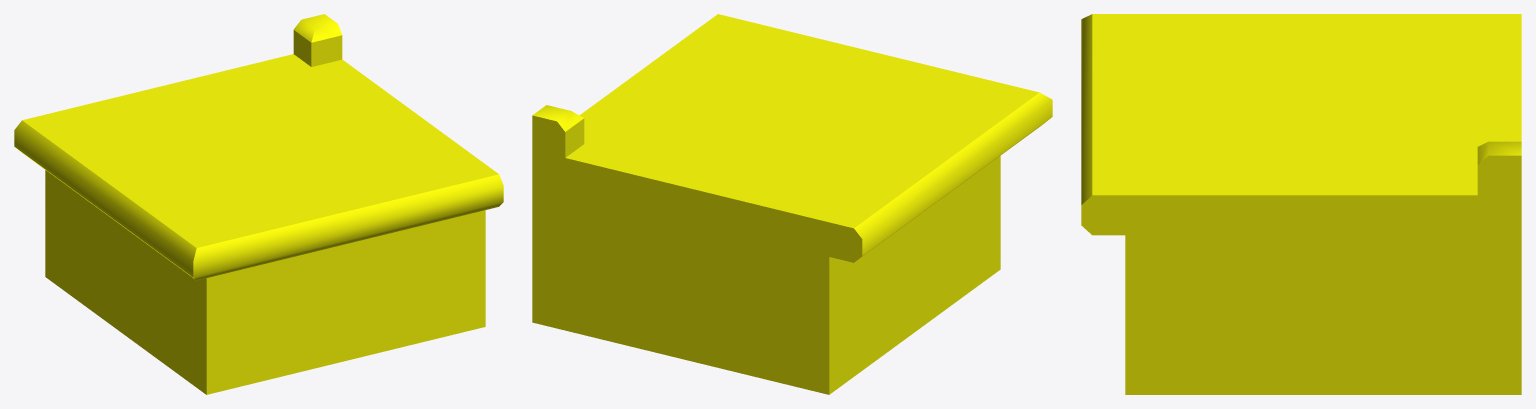
File: kitchencounter_outercorner_backsplash.gltf
3 views of the same model, side by side, from view 1: azimuth 30°, elevation 25°; view 2: azimuth 150°, elevation 25°; view 3: azimuth 270°, elevation 25° (orthographic). The views are drawn at different scales.
Parts seen in each view (by area): view 1: kitchencounter_outercorner_backsplash; view 2: kitchencounter_outercorner_backsplash; view 3: kitchencounter_outercorner_backsplash.
Part boxes in pixels (x1,y1,x2,y2): kitchencounter_outercorner_backsplash: [14, 14, 503, 394]; kitchencounter_outercorner_backsplash: [532, 14, 1052, 394]; kitchencounter_outercorner_backsplash: [1081, 14, 1521, 394].
Size of the model in its own units: 2 by 1.2 by 2.
1 material, 1 textured.
